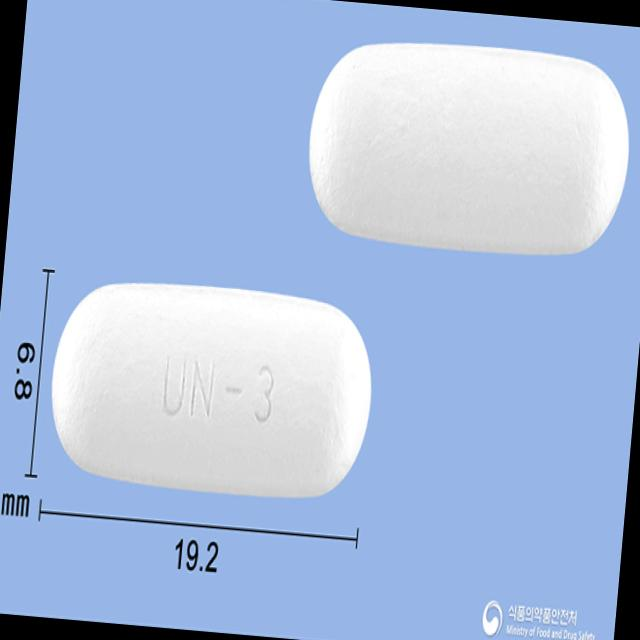Unasyn Tab: (42, 276, 378, 506)
